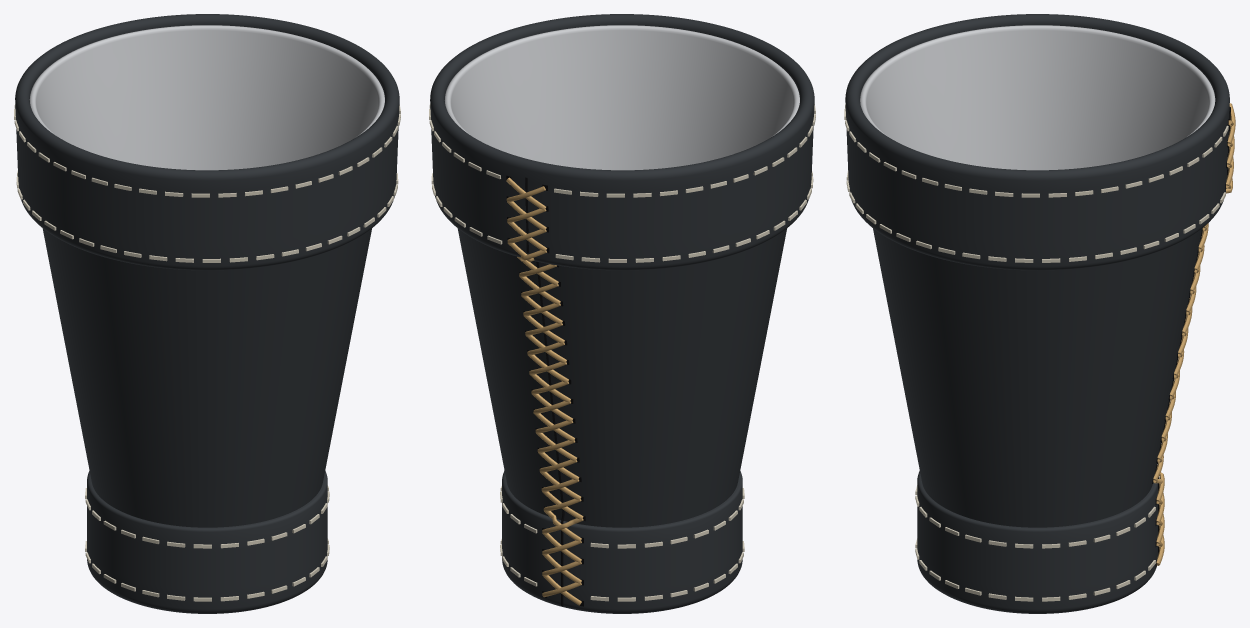
Rendered from guampa-terere.glb.
3 views of the same model, side by side, from view 1: azimuth 30°, elevation 25°; view 2: azimuth 150°, elevation 25°; view 3: azimuth 270°, elevation 25° (orthographic).
Parts seen in each view (by area): view 1: body, band_top, steel, band_bottom, stitch; view 2: body, band_top, steel, band_bottom, lace, stitch, seam_line; view 3: body, band_top, steel, band_bottom, stitch, lace.
Boxes of the visible parts, x1=… form: body: x1=42, y1=228, x2=371, y2=527; band_top: x1=15, y1=14, x2=399, y2=270; steel: x1=29, y1=25, x2=384, y2=170; band_bottom: x1=87, y1=471, x2=327, y2=613; stitch: x1=14, y1=104, x2=400, y2=601; body: x1=457, y1=228, x2=786, y2=527; band_top: x1=430, y1=14, x2=814, y2=270; steel: x1=444, y1=25, x2=799, y2=170; band_bottom: x1=502, y1=470, x2=742, y2=613; lace: x1=506, y1=177, x2=583, y2=605; stitch: x1=429, y1=104, x2=815, y2=601; seam_line: x1=506, y1=175, x2=585, y2=606; body: x1=873, y1=228, x2=1201, y2=527; band_top: x1=845, y1=14, x2=1229, y2=270; steel: x1=860, y1=25, x2=1215, y2=170; band_bottom: x1=917, y1=471, x2=1157, y2=613; stitch: x1=844, y1=104, x2=1228, y2=601; lace: x1=1153, y1=103, x2=1235, y2=565.
Bounding box in the file's own units: 0.0845 × 0.114 × 0.0855.
